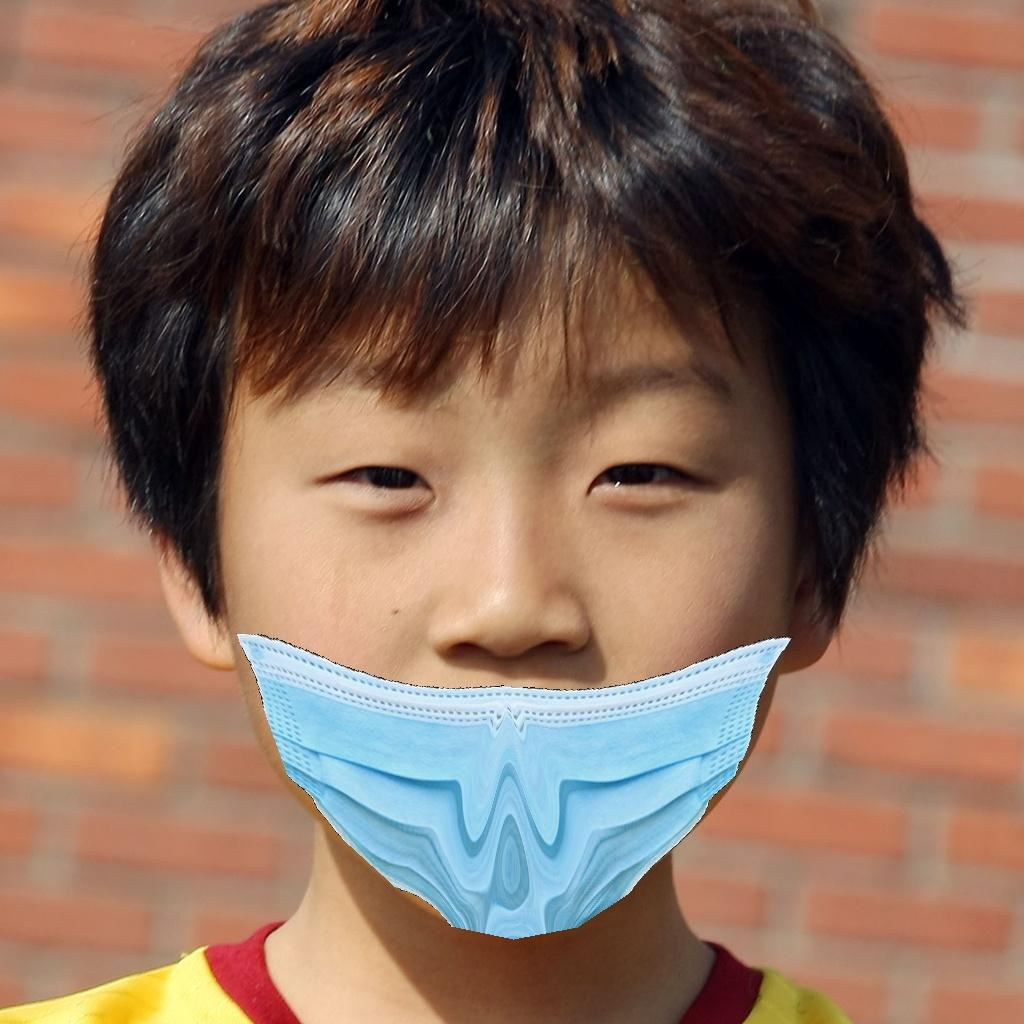Máscara Incorreta: (182, 306, 821, 928)
